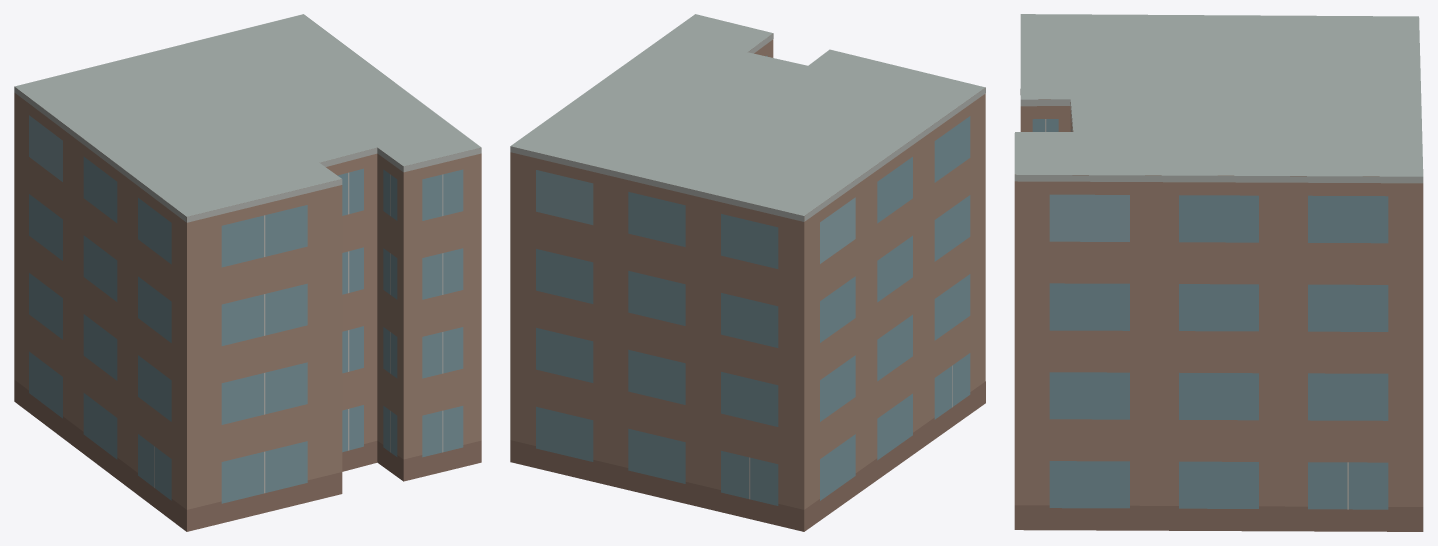
File: survey-upis-32999705.glb
3 renders of one model, left to right at view 1: azimuth 30°, elevation 25°; view 2: azimuth 150°, elevation 25°; view 3: azimuth 270°, elevation 25°, orthographic. The views are drawn at different scales.
Parts seen in each view (by area): view 1: survey-upis-32999705.tmp; view 2: survey-upis-32999705.tmp; view 3: survey-upis-32999705.tmp.
Boxes of the visible parts, x1,y1,x2,y2 form: survey-upis-32999705.tmp: (14,14,481,531); survey-upis-32999705.tmp: (510,14,985,531); survey-upis-32999705.tmp: (1014,14,1423,531).
Bounding box in the file's own units: 12.73 × 12.95 × 13.52.
